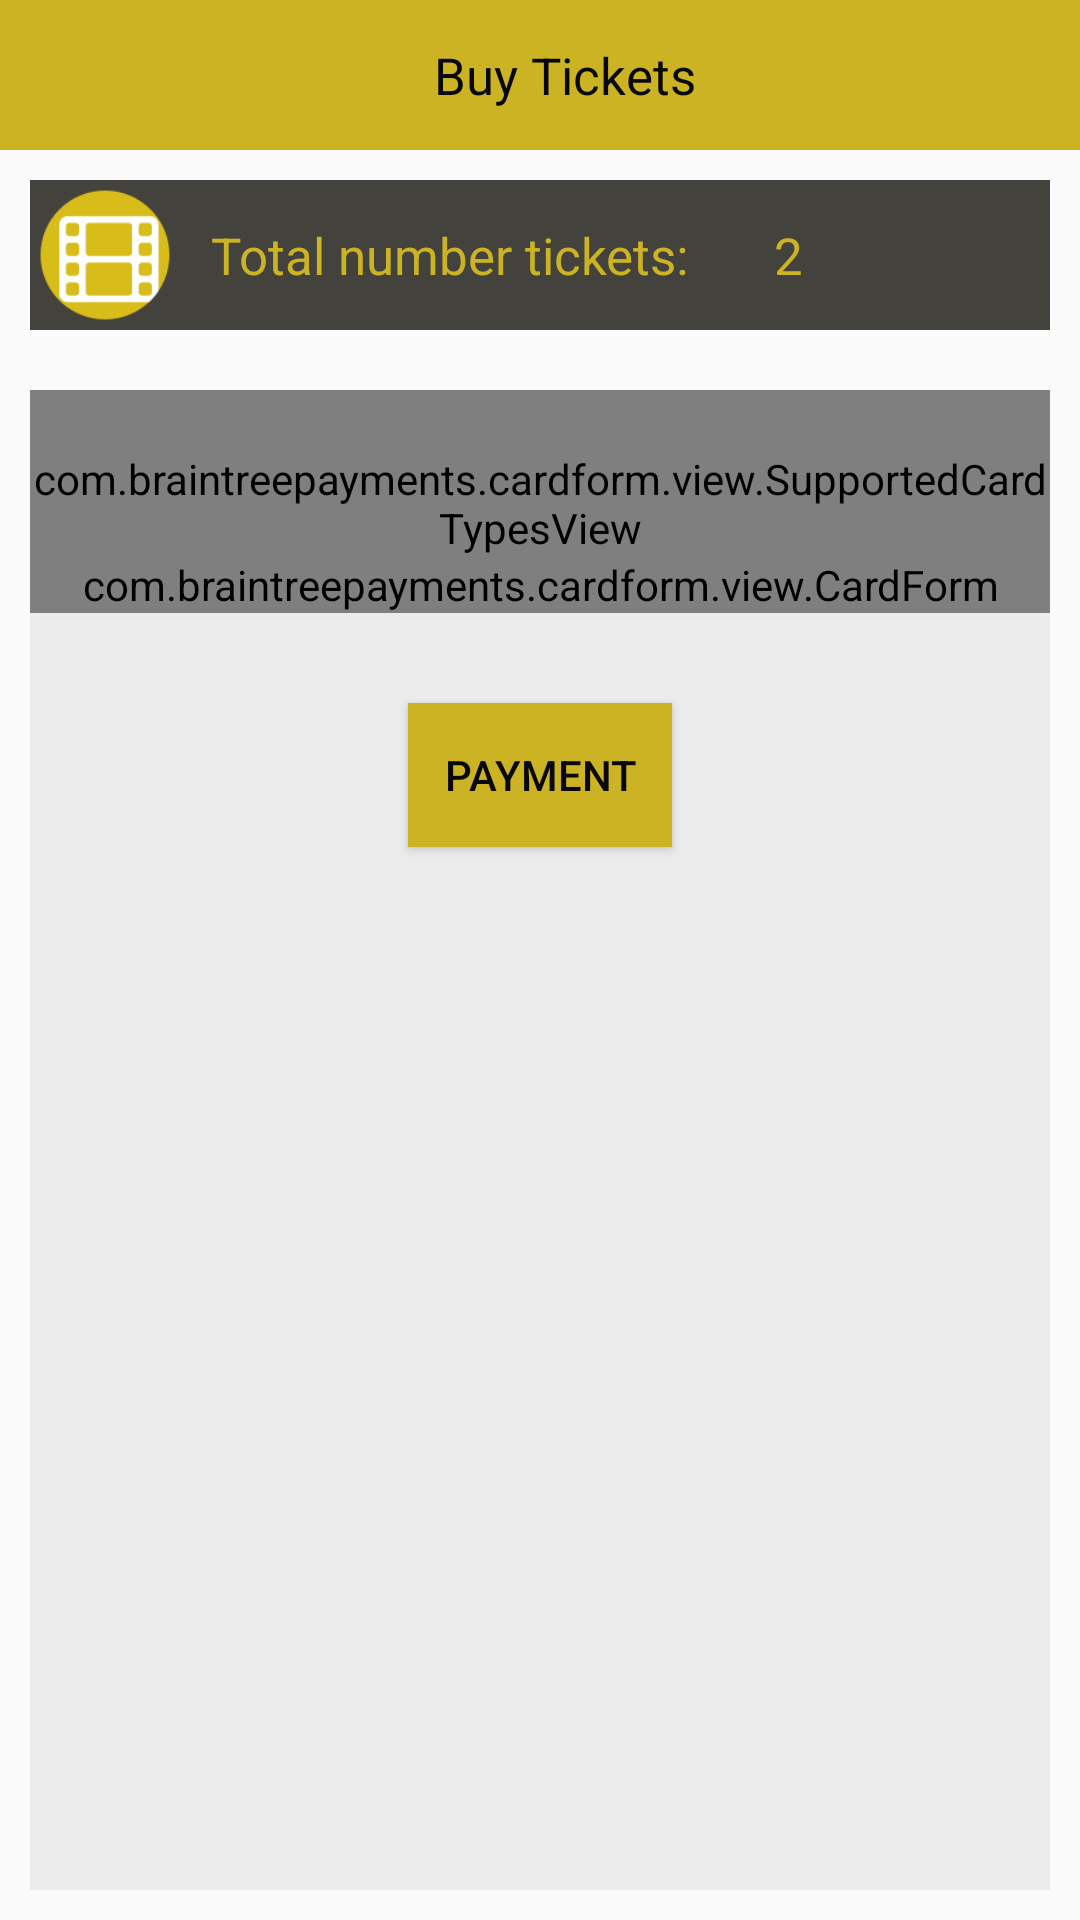

Locate icon controls on the screen. Image size 1080px×1920px, boxes as {"x1": x1, "y1": y1, "x2": x2, "y2": y2}.
show: {"x1": 30, "y1": 180, "x2": 180, "y2": 330}
